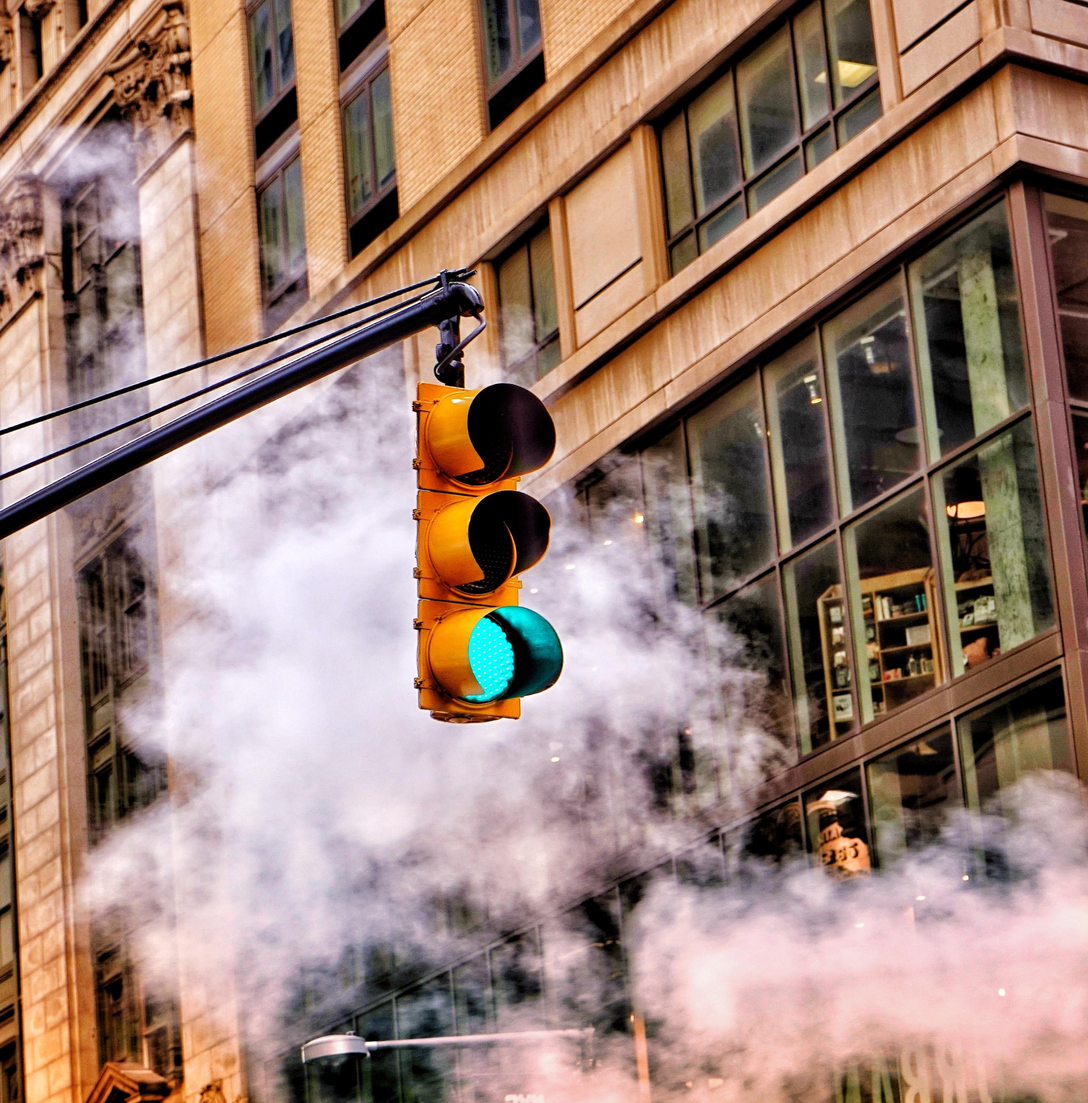Traffic light green: (404, 370, 562, 721)
